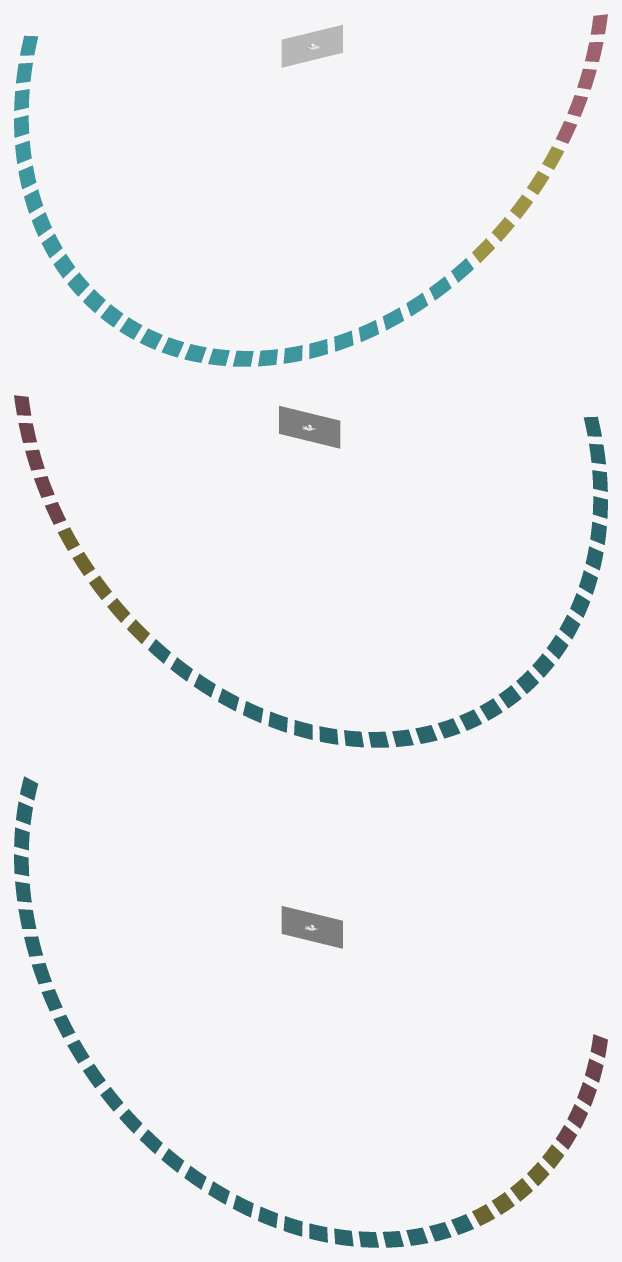
3 views of the same model, one above another, from view 1: azimuth 30°, elevation 25°; view 2: azimuth 150°, elevation 25°; view 3: azimuth 330°, elevation 25° (orthographic).
Parts seen in each view (by area): view 1: rpm_ring, quad_2500000_1093750; view 2: rpm_ring, quad_2500000_1093750; view 3: rpm_ring, quad_2000000_875000, quad_2500000_1093750.
Part boxes in pixels (bbox=[...]): rpm_ring: bbox=[14, 14, 607, 366]; quad_2500000_1093750: bbox=[281, 24, 342, 67]; rpm_ring: bbox=[14, 395, 607, 747]; quad_2500000_1093750: bbox=[279, 405, 340, 448]; rpm_ring: bbox=[14, 776, 607, 1247]; quad_2000000_875000: bbox=[287, 910, 336, 944]; quad_2500000_1093750: bbox=[281, 906, 342, 948].
Size of what is drawn, in the model's own units: 242 by 153 by 5.3.
